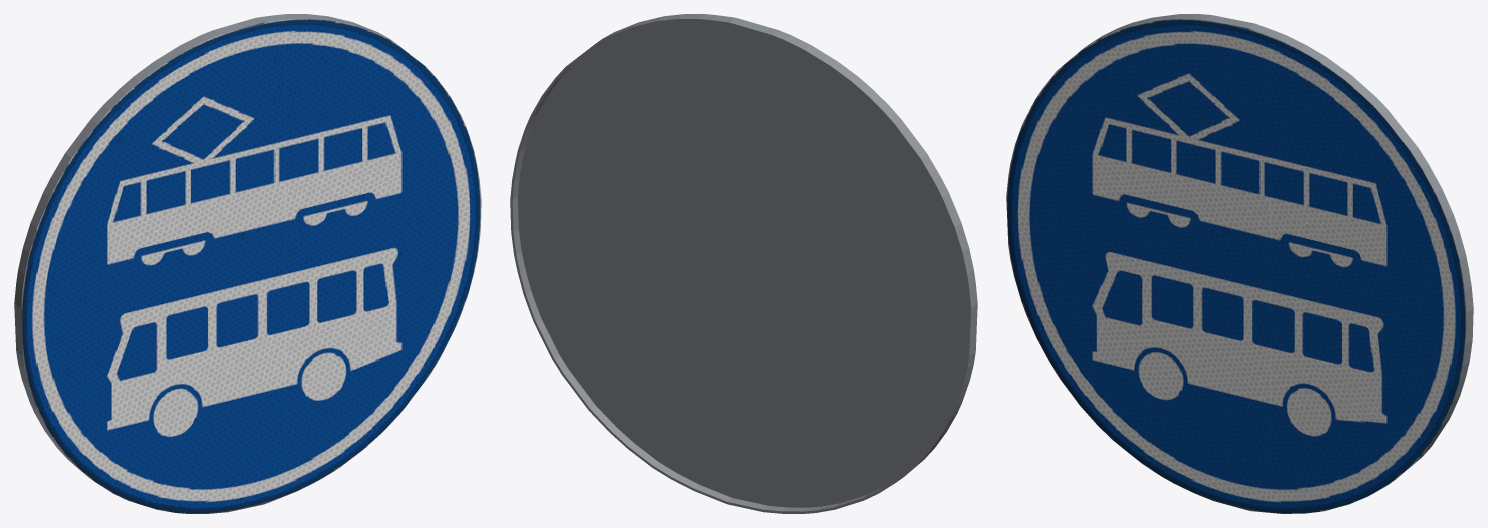
The picture shows the model from 3 angles, left to right: view 1: azimuth 30°, elevation 25°; view 2: azimuth 150°, elevation 25°; view 3: azimuth 330°, elevation 25°; orthographic projection.
Visible parts, largest first — view 1: cat_5a30769e60b0aba6; view 2: cat_5a30769e60b0aba6; view 3: cat_5a30769e60b0aba6.
Part boxes in pixels (x1=…): cat_5a30769e60b0aba6: x1=14, y1=14, x2=481, y2=513; cat_5a30769e60b0aba6: x1=510, y1=14, x2=977, y2=513; cat_5a30769e60b0aba6: x1=1006, y1=14, x2=1473, y2=513.
Bounding box in the file's own units: 0.6 × 0.015 × 0.6.
Materials: 2 (1 with a texture image).
